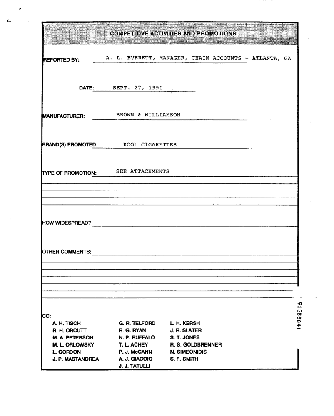textline: (41, 191, 298, 199), (41, 270, 298, 278), (41, 277, 298, 285), (42, 178, 298, 186), (41, 185, 298, 192), (41, 199, 298, 206), (41, 256, 298, 263), (41, 263, 298, 270), (41, 285, 298, 292), (41, 292, 298, 299), (92, 54, 248, 64), (92, 111, 248, 121), (92, 139, 248, 149), (91, 171, 297, 178), (92, 220, 297, 227), (92, 250, 297, 256), (92, 85, 196, 92)
